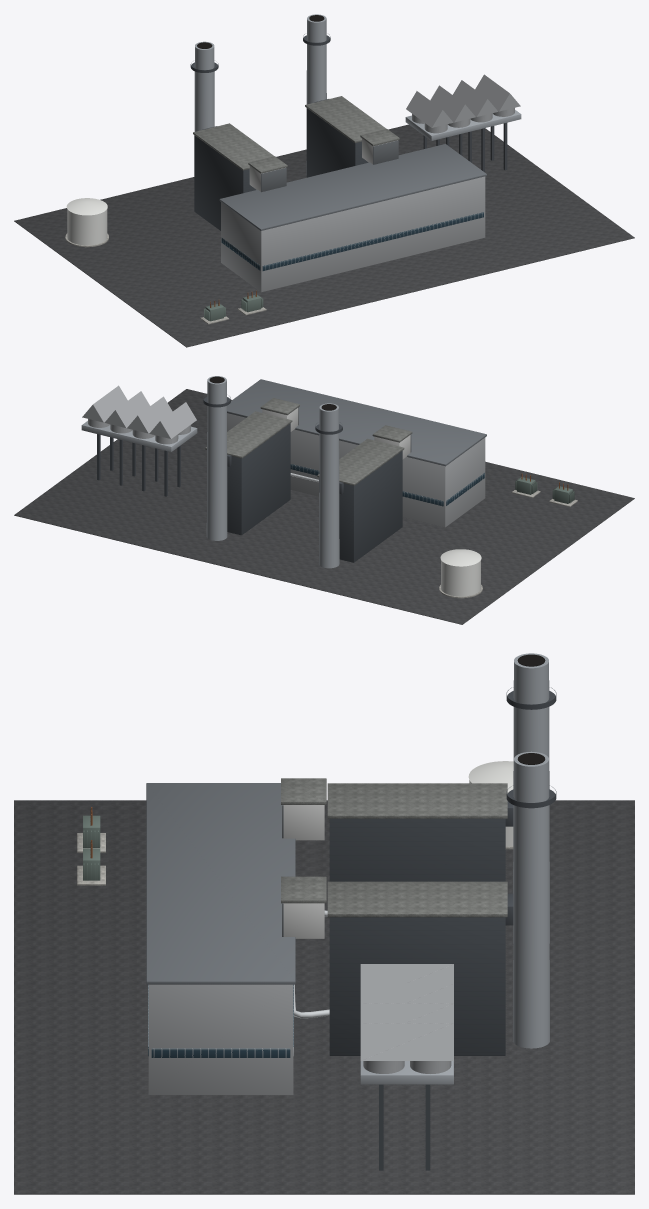
File: gas-turbine-power-plant.glb
The picture shows the model from 3 angles, top to bottom: view 1: azimuth 30°, elevation 25°; view 2: azimuth 150°, elevation 25°; view 3: azimuth 270°, elevation 25°; orthographic projection. The views are drawn at different scales.
Parts seen in each view (by area): view 1: Gas_Turbine_Power_Plant; view 2: Gas_Turbine_Power_Plant; view 3: Gas_Turbine_Power_Plant.
Boxes of the visible parts, bbox=[...] form: Gas_Turbine_Power_Plant: bbox=[14, 14, 634, 347]; Gas_Turbine_Power_Plant: bbox=[14, 376, 634, 624]; Gas_Turbine_Power_Plant: bbox=[14, 653, 634, 1194].
Size of the model in its own units: 180 by 60.3 by 120.
Materials: 17 (9 with a texture image).
